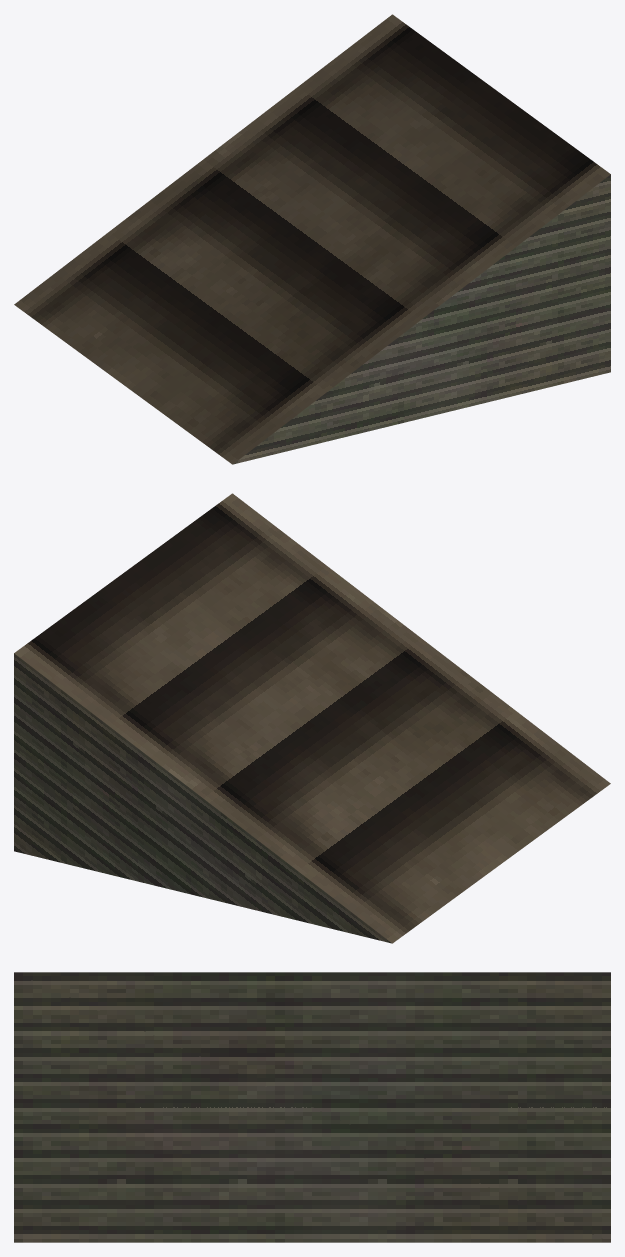
The model's file is stairs.glb.
3 views of the same model, one above another, from view 1: azimuth 30°, elevation 25°; view 2: azimuth 150°, elevation 25°; view 3: azimuth 270°, elevation 25° (orthographic). The views are drawn at different scales.
Parts seen in each view (by area): view 1: Cube.037; view 2: Cube.037; view 3: Cube.037.
Part boxes in pixels (left/top/right/bottom): Cube.037: left=14, top=14, right=610, bottom=464; Cube.037: left=14, top=493, right=610, bottom=943; Cube.037: left=14, top=972, right=610, bottom=1242.
Bounding box in the file's own units: 4 × 2 × 4.
Materials: 1 (1 with a texture image).
